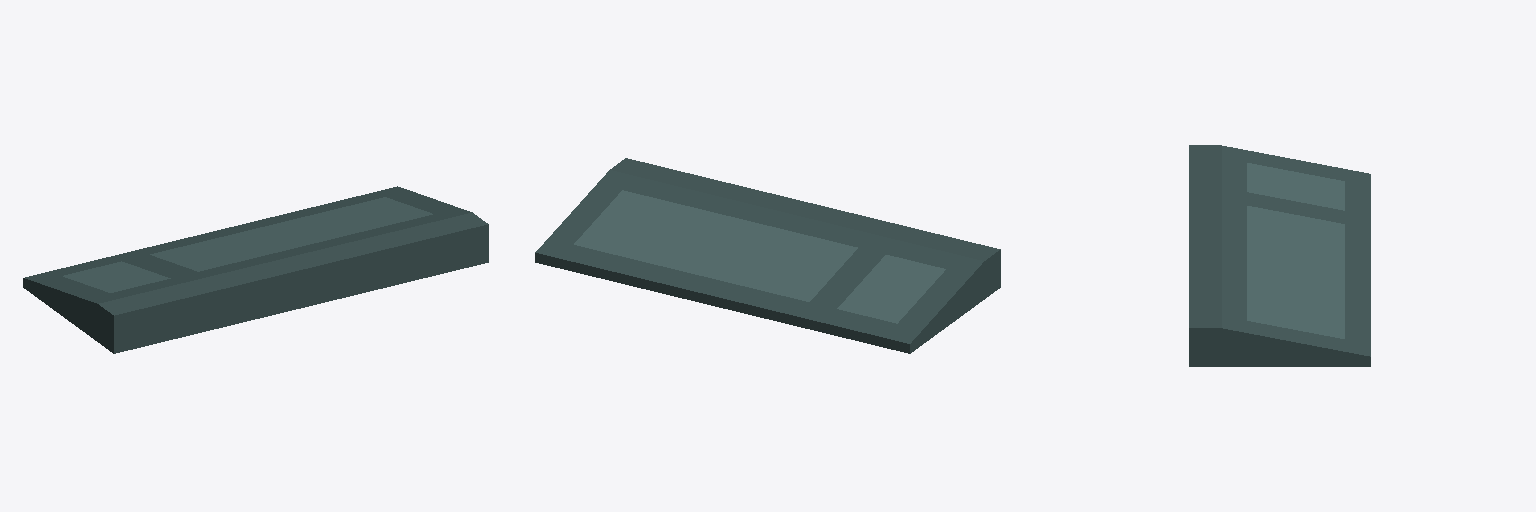
The model's file is computerKeyboard.obj.
3 views of the same model, side by side, from view 1: azimuth 30°, elevation 25°; view 2: azimuth 150°, elevation 25°; view 3: azimuth 270°, elevation 25° (orthographic).
Visible parts, largest first — view 1: computerKeyboard; view 2: computerKeyboard; view 3: computerKeyboard.
Part boxes in pixels (x1,y1,x2,y2): computerKeyboard: (23,186,488,353); computerKeyboard: (535,158,1000,353); computerKeyboard: (1189,145,1370,366).
Bounding box in the file's own units: 0.2822 × 0.0276 × 0.1182.